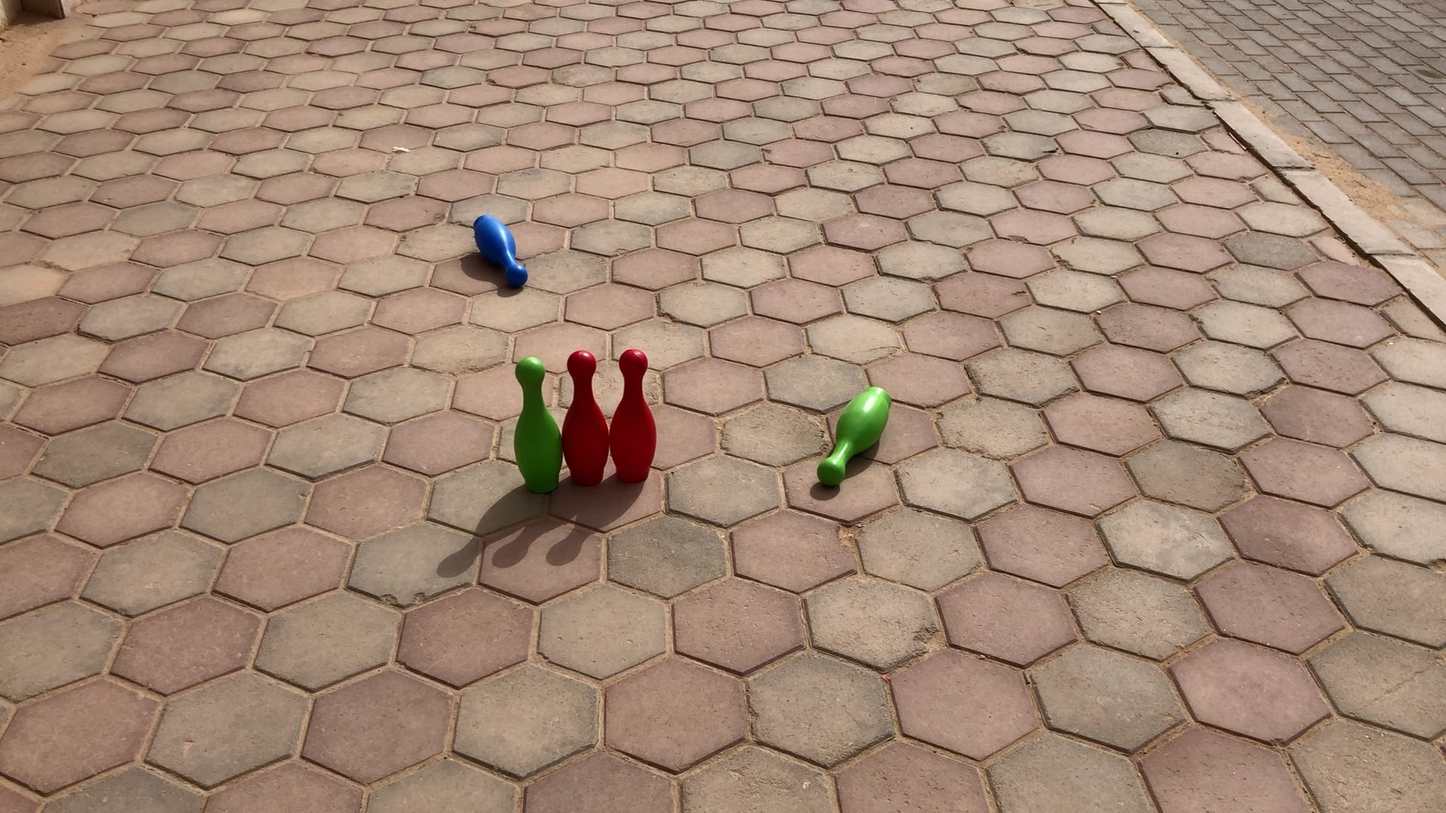bowling-pin: (518, 355, 565, 491), (564, 350, 611, 486), (820, 387, 886, 483), (610, 349, 657, 483), (472, 216, 529, 288)
